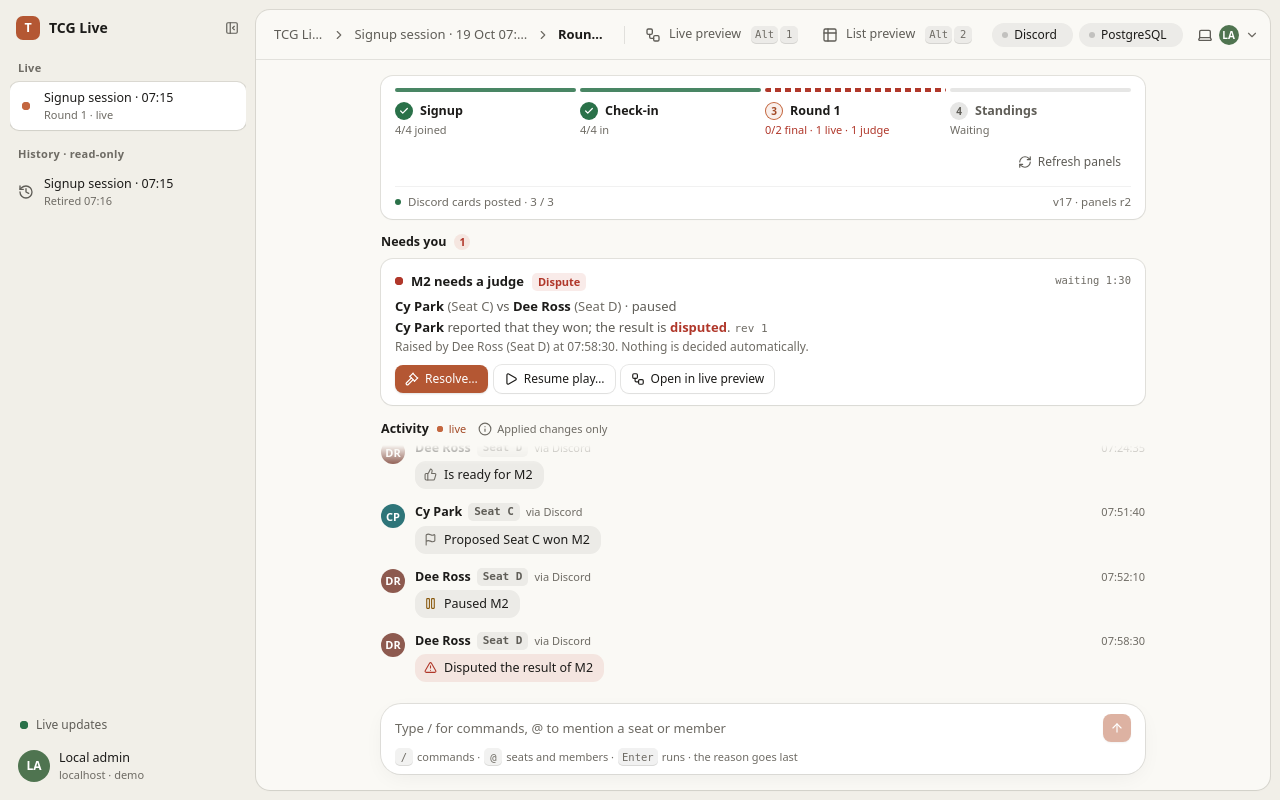
Test case: judge cards after a resume and in history (Wave 2 review) › a retired event shows judge attention as frozen history
The width and height of the screenshot is (1280, 800).
(page scrolled)
Click the button "Signup session · 07:15 Retired 07:16" at (128, 192), box [10, 168, 246, 216]
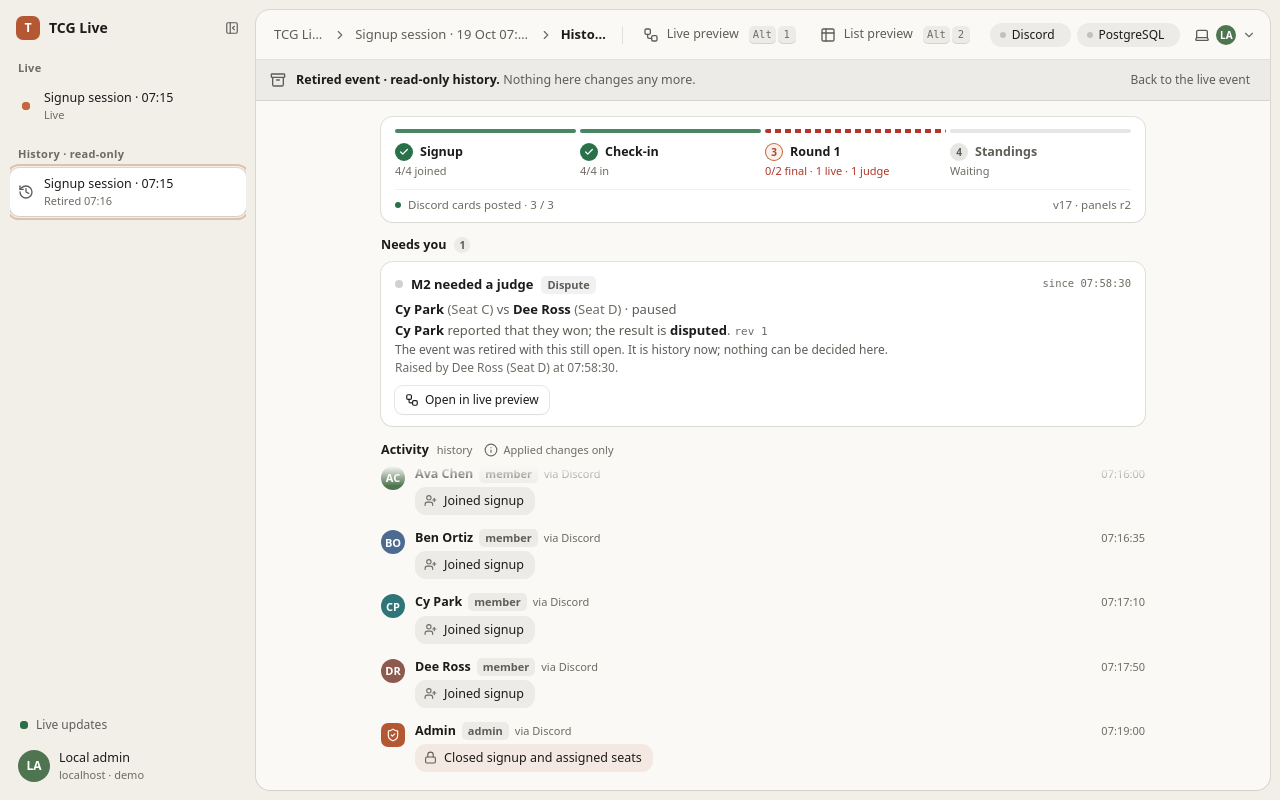
Expected: the element "M2 needed a judge" does not show "waiting", [381, 262, 1145, 426]
Expected: the element "M2 needed a judge" shows "It is history now", [395, 341, 888, 358]
Expected: the text "history" is shown, [437, 442, 472, 458]
